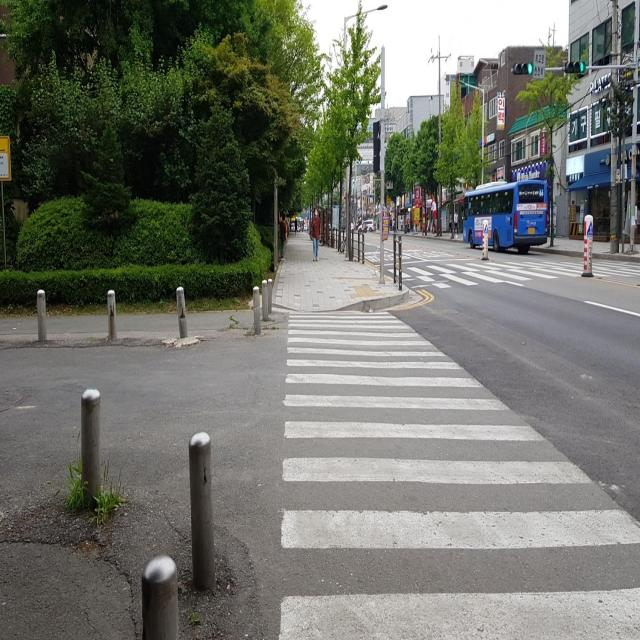횡단보도: (277, 309, 640, 639), (387, 260, 640, 291)
